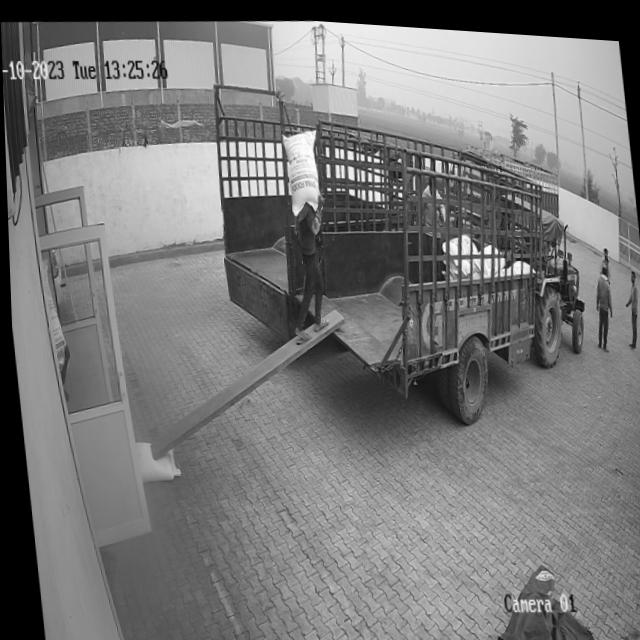sack: (279, 123, 323, 212), (132, 437, 178, 482)
